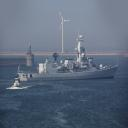Fragata: (18, 29, 120, 84)
